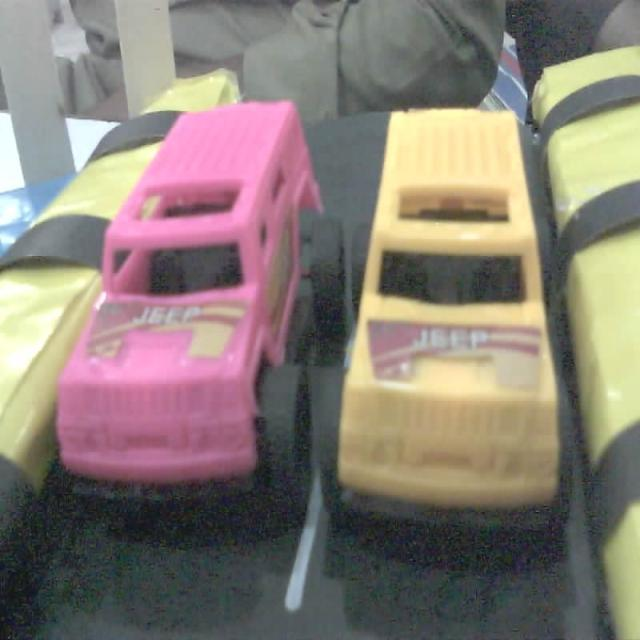TwoCar: (55, 88, 342, 548), (320, 96, 577, 538)
